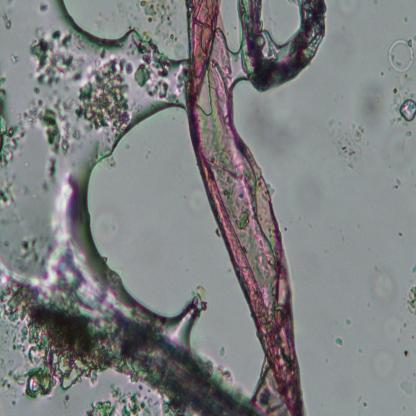Air bubble: (0, 0, 190, 337)
Background material: (24, 26, 131, 162), (0, 323, 71, 409), (331, 74, 389, 176), (129, 34, 183, 101), (0, 72, 27, 172), (90, 387, 172, 413), (388, 78, 414, 132), (138, 0, 175, 36), (386, 36, 416, 74), (373, 269, 396, 309), (402, 260, 416, 317), (397, 380, 416, 394), (0, 10, 13, 30), (330, 336, 347, 350), (391, 175, 402, 191)
Cellulose filter fibre: (26, 292, 257, 415), (235, 1, 329, 91)
Cotton: (186, 0, 306, 414)
